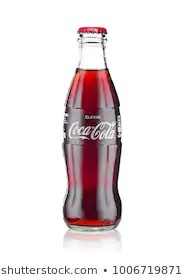coke-glass-bottle: (59, 26, 122, 231)
